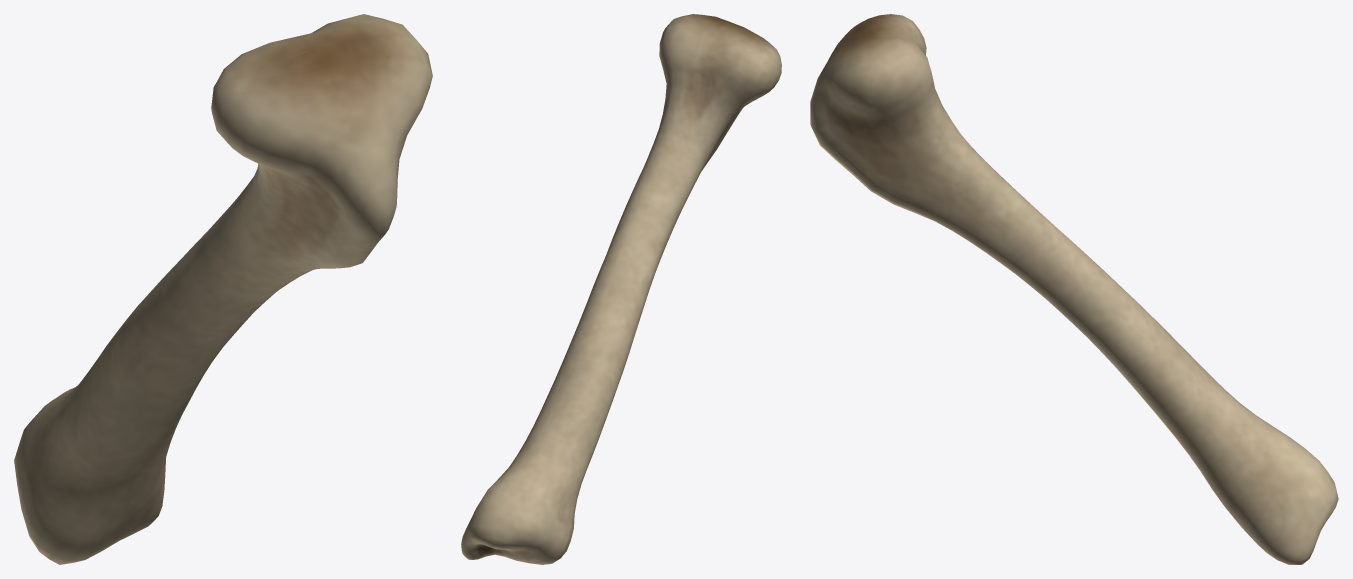
Rendered from Tibia.glb.
3 renders of one model, left to right at view 1: azimuth 30°, elevation 25°; view 2: azimuth 150°, elevation 25°; view 3: azimuth 270°, elevation 25°, orthographic. The views are drawn at different scales.
Visible parts, largest first — view 1: polySurface9; view 2: polySurface9; view 3: polySurface9.
Part boxes in pixels (x1,y1,x2,y2): polySurface9: (14, 14, 432, 564); polySurface9: (461, 14, 781, 564); polySurface9: (810, 14, 1338, 564).
Size of the model in its own units: 33.57 by 97.65 by 93.85.
1 material, 1 textured.
